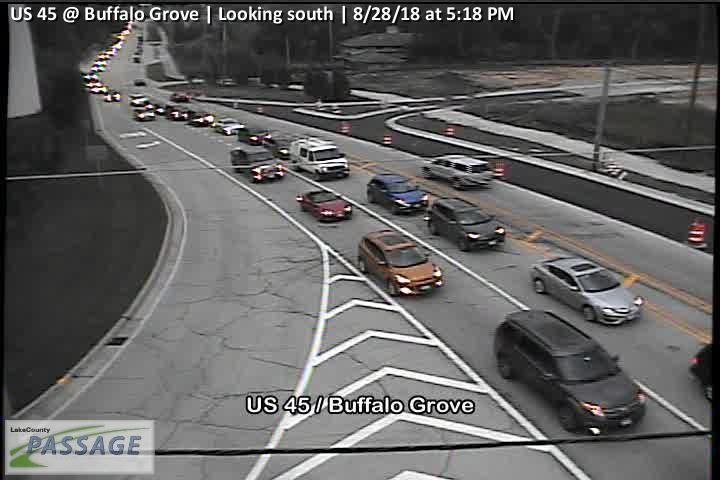SUV: (492, 309, 648, 435), (421, 152, 495, 189)
Sedan: (531, 254, 644, 325), (357, 229, 444, 296), (428, 197, 507, 253), (363, 171, 430, 214), (228, 146, 285, 183), (296, 189, 354, 222), (236, 125, 273, 146), (265, 133, 295, 158), (212, 117, 245, 135)
Truck: (288, 136, 350, 182)
